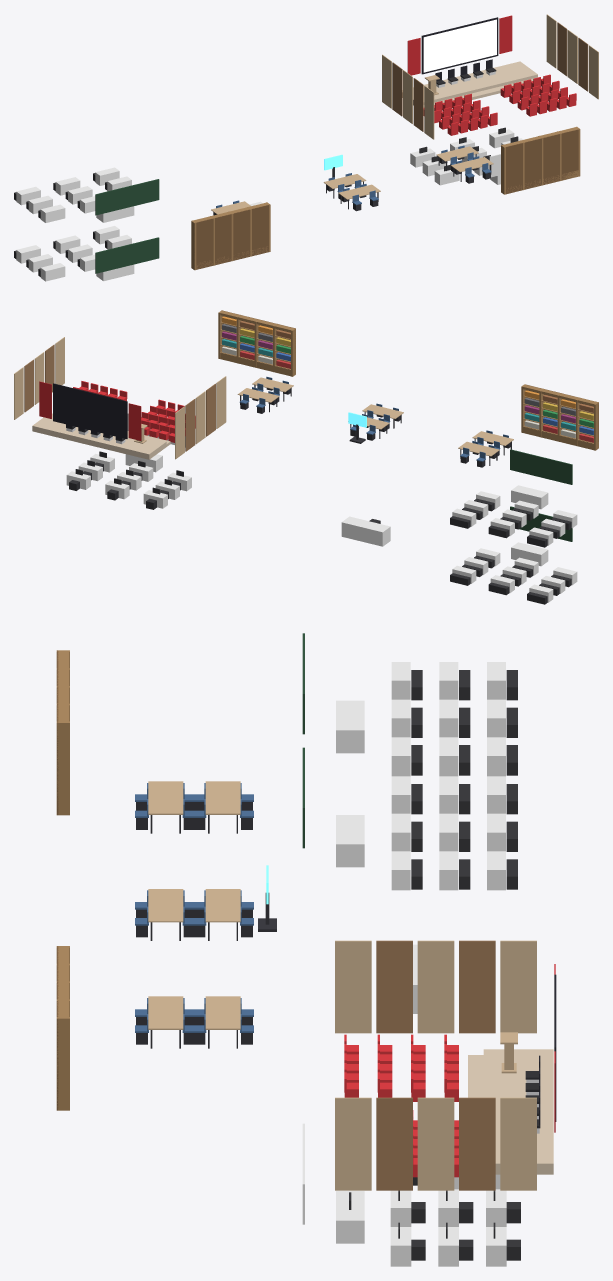
Rendered from campus_furniture.glb.
The picture shows the model from 3 angles, top to bottom: view 1: azimuth 30°, elevation 25°; view 2: azimuth 150°, elevation 25°; view 3: azimuth 270°, elevation 25°; orthographic projection. The views are drawn at different scales.
Parts seen in each view (by area): view 1: Lib_Bookshelf_West_Back, Lib_Bookshelf_East_Back, SH_Screen_Surface, SH_Stage_Platform, Class_G_Blackboard, Class_1_Whiteboard, SH_Screen_Frame, SH_Panel_W_3, SH_Panel_E_1, SH_Panel_E_2, SH_Panel_E_3, SH_Panel_E_4 (+11 smaller); view 2: SH_Screen_Frame, SH_Stage_Platform, Class_1_Whiteboard, Reception_Counter, Teacher_Table_1, Teacher_Table_G, SH_Panel_W_2, SH_Panel_W_3, SH_Panel_W_0, Lib_Bookshelf_West_Base, SH_Banner_-1, Lib_Bookshelf_East_Base (+10 smaller); view 3: SH_Stage_Platform, SH_Panel_E_2, SH_Panel_W_2, SH_Panel_E_0, SH_Panel_E_1, SH_Panel_E_3, SH_Panel_E_4, SH_Panel_W_0, SH_Panel_W_1, SH_Panel_W_3, SH_Panel_W_4, Teacher_Table_1 (+15 smaller).
Part boxes in pixels (<box>): Lib_Bookshelf_West_Back: <box>194,204,269,269</box>; Lib_Bookshelf_East_Back: <box>505,129,578,194</box>; SH_Screen_Surface: <box>423,19,496,72</box>; SH_Stage_Platform: <box>402,61,537,105</box>; Class_G_Blackboard: <box>95,237,159,273</box>; Class_1_Whiteboard: <box>95,179,159,215</box>; SH_Screen_Frame: <box>421,17,498,74</box>; SH_Panel_W_3: <box>392,62,402,116</box>; SH_Panel_E_1: <box>578,37,588,91</box>; SH_Panel_E_2: <box>567,30,577,83</box>; SH_Panel_E_3: <box>557,22,567,76</box>; SH_Panel_E_4: <box>546,14,556,68</box>; SH_Screen_Frame: <box>53,383,127,438</box>; SH_Stage_Platform: <box>32,413,166,459</box>; Class_1_Whiteboard: <box>510,449,572,484</box>; Reception_Counter: <box>341,516,390,546</box>; Teacher_Table_1: <box>511,485,548,509</box>; Teacher_Table_G: <box>511,542,548,566</box>; SH_Panel_W_2: <box>195,391,205,444</box>; SH_Panel_W_3: <box>185,399,195,451</box>; SH_Panel_W_0: <box>216,376,226,428</box>; Lib_Bookshelf_West_Base: <box>523,426,598,450</box>; SH_Banner_-1: <box>128,403,141,440</box>; Lib_Bookshelf_East_Base: <box>220,352,290,376</box>; SH_Stage_Platform: <box>483,1049,553,1174</box>; SH_Panel_E_2: <box>417,1097,454,1190</box>; SH_Panel_W_2: <box>417,940,454,1033</box>; SH_Panel_E_0: <box>335,1097,371,1190</box>; SH_Panel_E_1: <box>376,1097,412,1190</box>; SH_Panel_E_3: <box>459,1097,495,1190</box>; SH_Panel_E_4: <box>500,1097,536,1190</box>; SH_Panel_W_0: <box>335,940,371,1033</box>; SH_Panel_W_1: <box>376,940,412,1033</box>; SH_Panel_W_3: <box>459,940,495,1033</box>; SH_Panel_W_4: <box>500,940,536,1033</box>; Teacher_Table_1: <box>336,700,364,753</box>.
Bounding box in the file's own units: 38.27 × 7.66 × 15.71.
